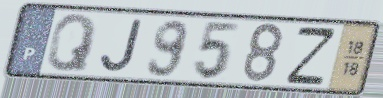5: (192, 19, 242, 82)
8: (242, 22, 284, 85)
9: (145, 18, 191, 78)
J: (98, 17, 146, 74)
Q: (44, 12, 100, 74)
Z: (283, 25, 339, 86)
